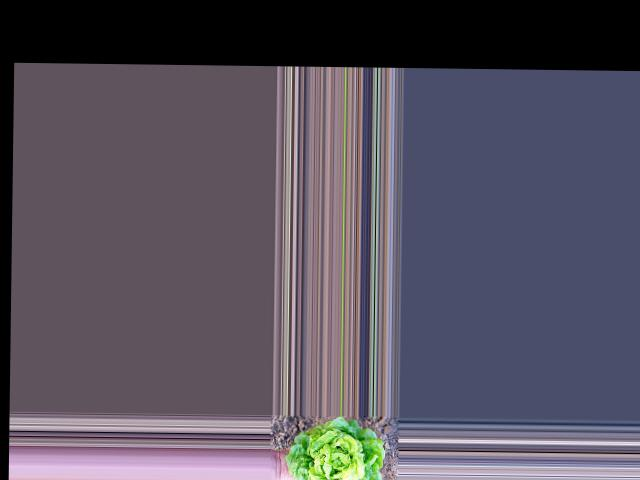lettuce: (292, 418, 387, 480)
